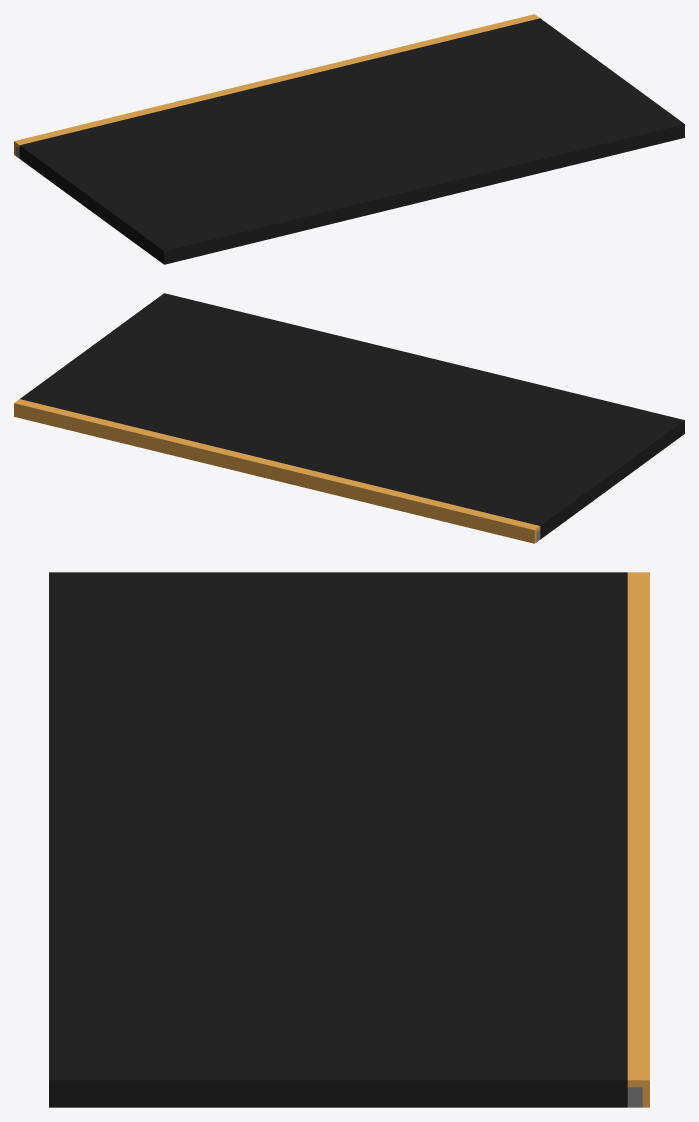
The model's file is LargePath0.obj.
3 renders of one model, top to bottom at view 1: azimuth 30°, elevation 25°; view 2: azimuth 150°, elevation 25°; view 3: azimuth 270°, elevation 25°, orthographic. The views are drawn at different scales.
Bounding box in the file's own units: 16 × 0.4 × 8.
1 material, 1 textured.
